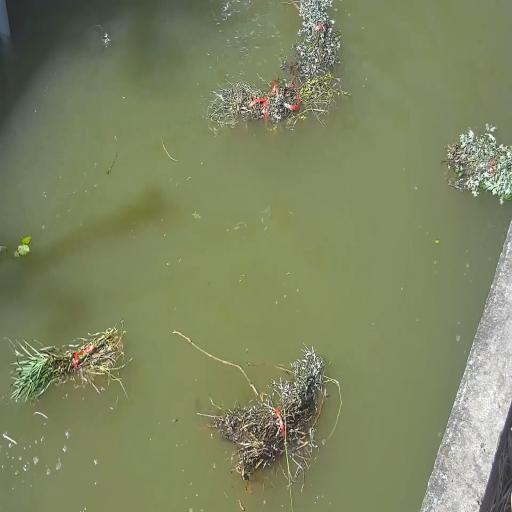twig: (190, 339, 334, 493), (7, 320, 129, 405), (206, 72, 342, 134), (444, 125, 512, 202), (285, 0, 342, 80)
